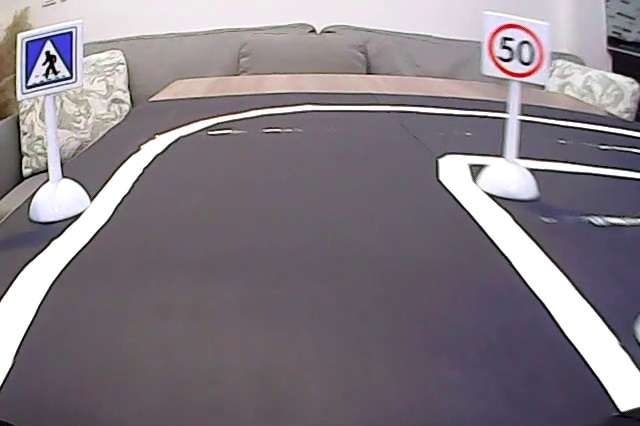pedestrian crossing: (17, 29, 79, 89)
speed limit 50: (486, 11, 547, 80)
